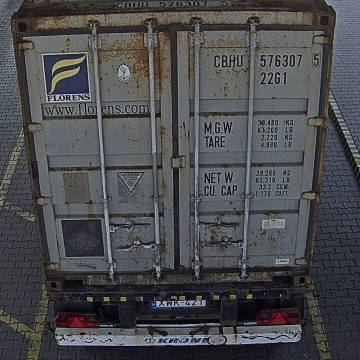serial_id: (214, 54, 321, 67)
